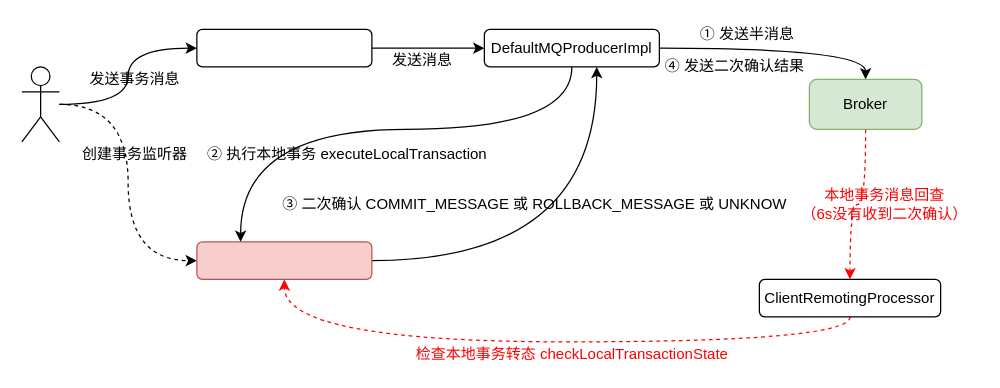
The diagram is 1000 pixels wide and 388 high, and some of its shapes have lost their labels. The shapes that lost their labels are listed below. From the top down, each one's centre as x and y in pixels, then its label:
At point 284,47: "TransactionMQProducer".
At point 284,260: "TransactionListenerImpl".
